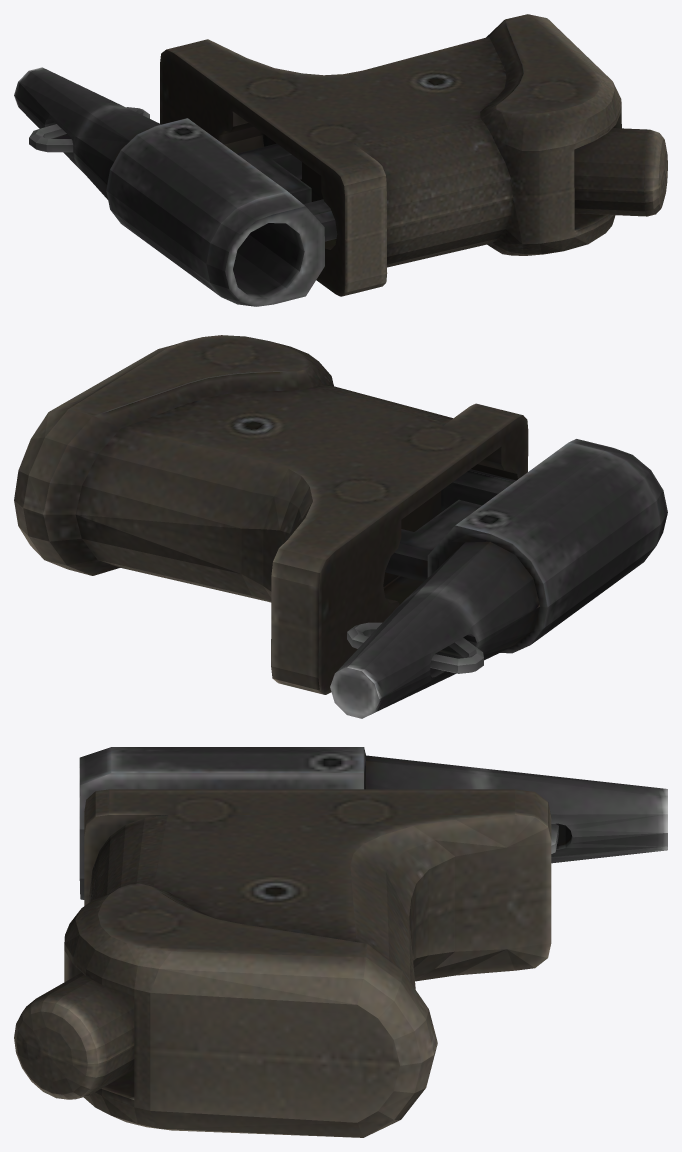
3 renders of one model, top to bottom at view 1: azimuth 30°, elevation 25°; view 2: azimuth 150°, elevation 25°; view 3: azimuth 270°, elevation 25°, orthographic. The views are drawn at different scales.
Visible parts, largest first — view 1: TW_62e7c880f68e7a0676050c7c_PZ_Import; view 2: TW_62e7c880f68e7a0676050c7c_PZ_Import; view 3: TW_62e7c880f68e7a0676050c7c_PZ_Import.
Part boxes in pixels (<box>): TW_62e7c880f68e7a0676050c7c_PZ_Import: <box>14,14,667,306</box>; TW_62e7c880f68e7a0676050c7c_PZ_Import: <box>14,335,667,718</box>; TW_62e7c880f68e7a0676050c7c_PZ_Import: <box>14,747,667,1137</box>.
Size of the model in its own units: 0.03 by 0.0292 by 0.00885.
1 material, 1 textured.
